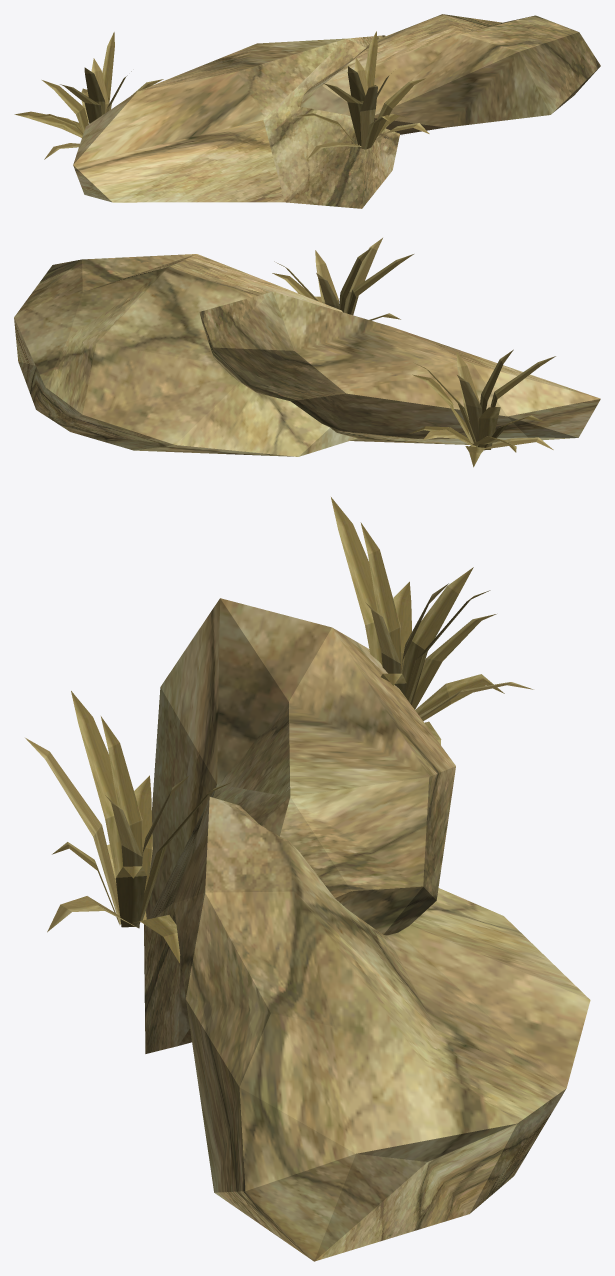
File: C3SMSTNWALH_DM.obj
3 renders of one model, top to bottom at view 1: azimuth 30°, elevation 25°; view 2: azimuth 150°, elevation 25°; view 3: azimuth 270°, elevation 25°, orthographic. The views are drawn at different scales.
Parts seen in each view (by area): view 1: Node 0; view 2: Node 0; view 3: Node 0.
Boxes of the visible parts, <box> form: Node 0: <box>14,14,600,208</box>; Node 0: <box>14,238,600,467</box>; Node 0: <box>25,497,590,1261</box>.
Size of the model in its own units: 8.26 by 2.32 by 3.79.
Materials: 2 (2 with a texture image).
